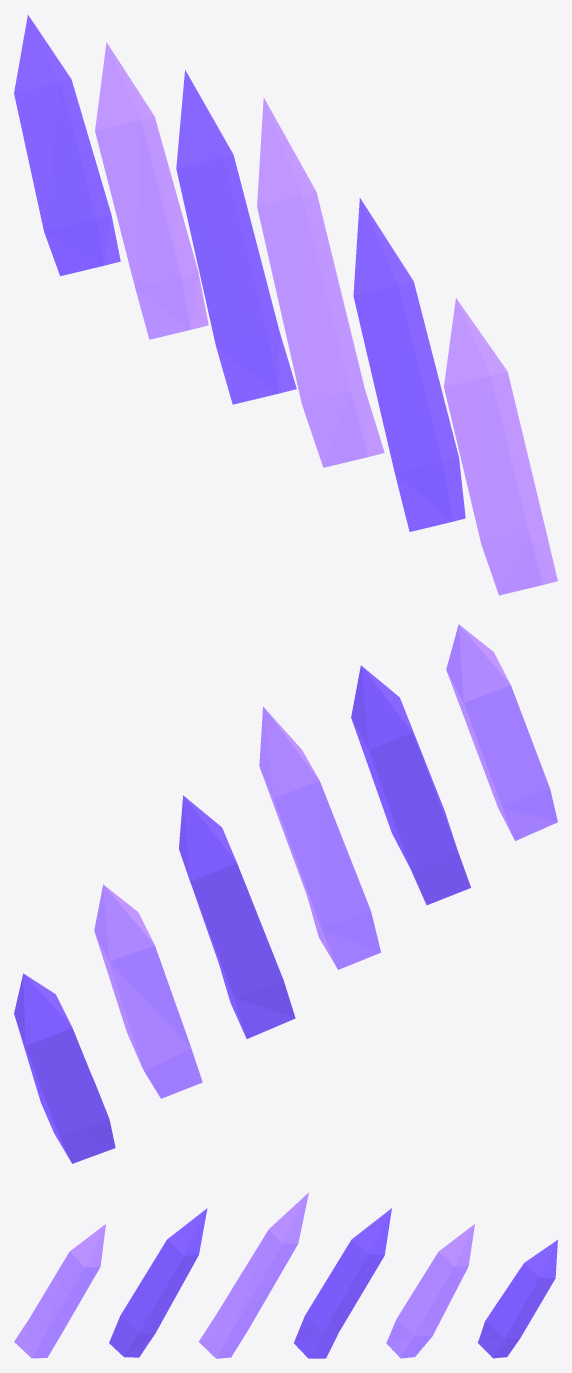
Rendered from dc_shade_spine.glb.
3 renders of one model, top to bottom at view 1: azimuth 30°, elevation 25°; view 2: azimuth 150°, elevation 25°; view 3: azimuth 270°, elevation 25°, orthographic. The views are drawn at different scales.
Visible parts, largest first — view 1: part.dc_shade_spine; view 2: part.dc_shade_spine; view 3: part.dc_shade_spine.
Boxes of the visible parts, <box> form: part.dc_shade_spine: <box>14,15,557,595</box>; part.dc_shade_spine: <box>14,624,557,1163</box>; part.dc_shade_spine: <box>14,1192,557,1358</box>.
Size of the model in its own units: 0.0636 by 0.279 by 0.8255.
